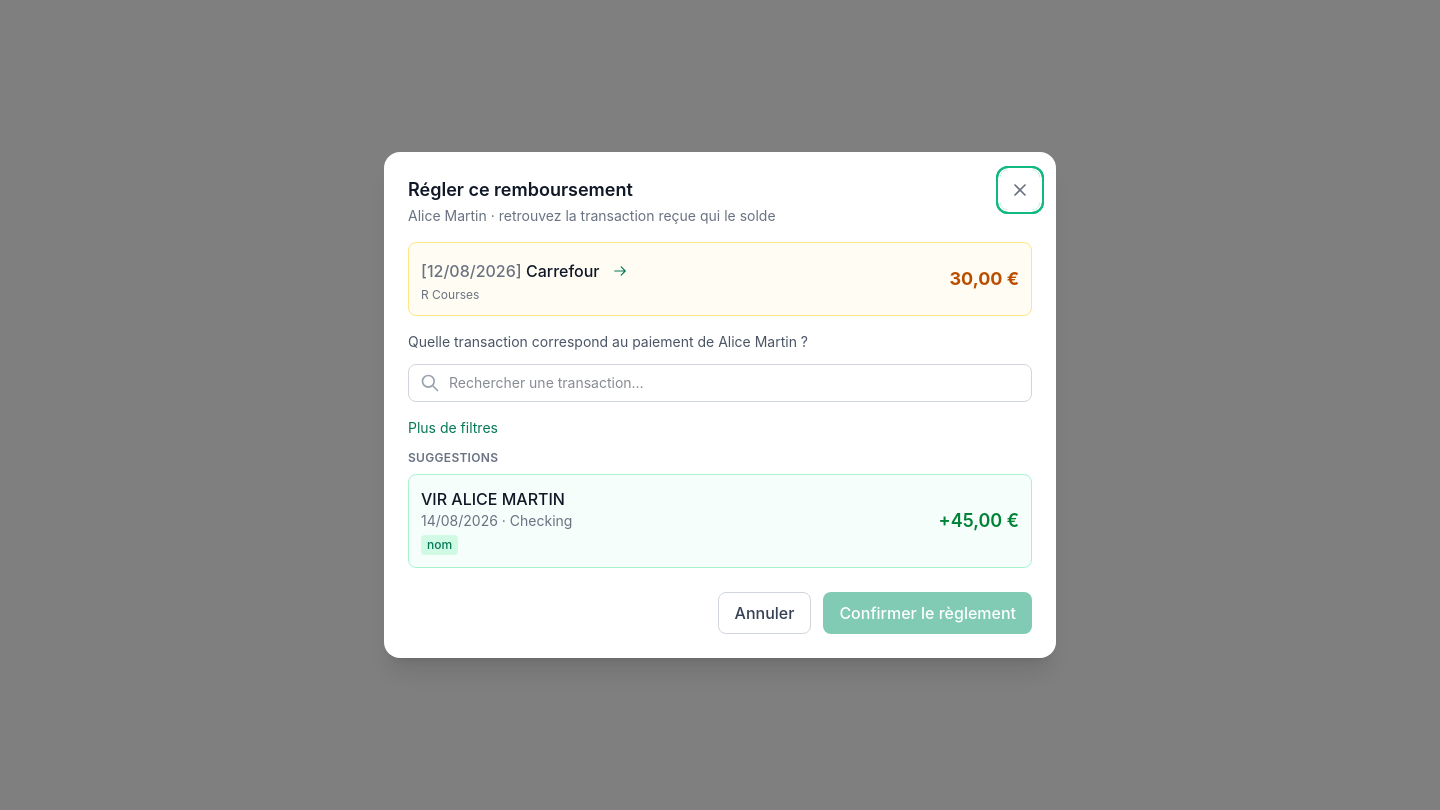
it: SingleSettlementModal › surfaces a failed settlement instead of closing on it
The image size is (1440, 810).
Click the button "VIR ALICE MARTIN 14/08/2026 · Checking nom +45,00 €": (493, 499) [408,474,1032,568]
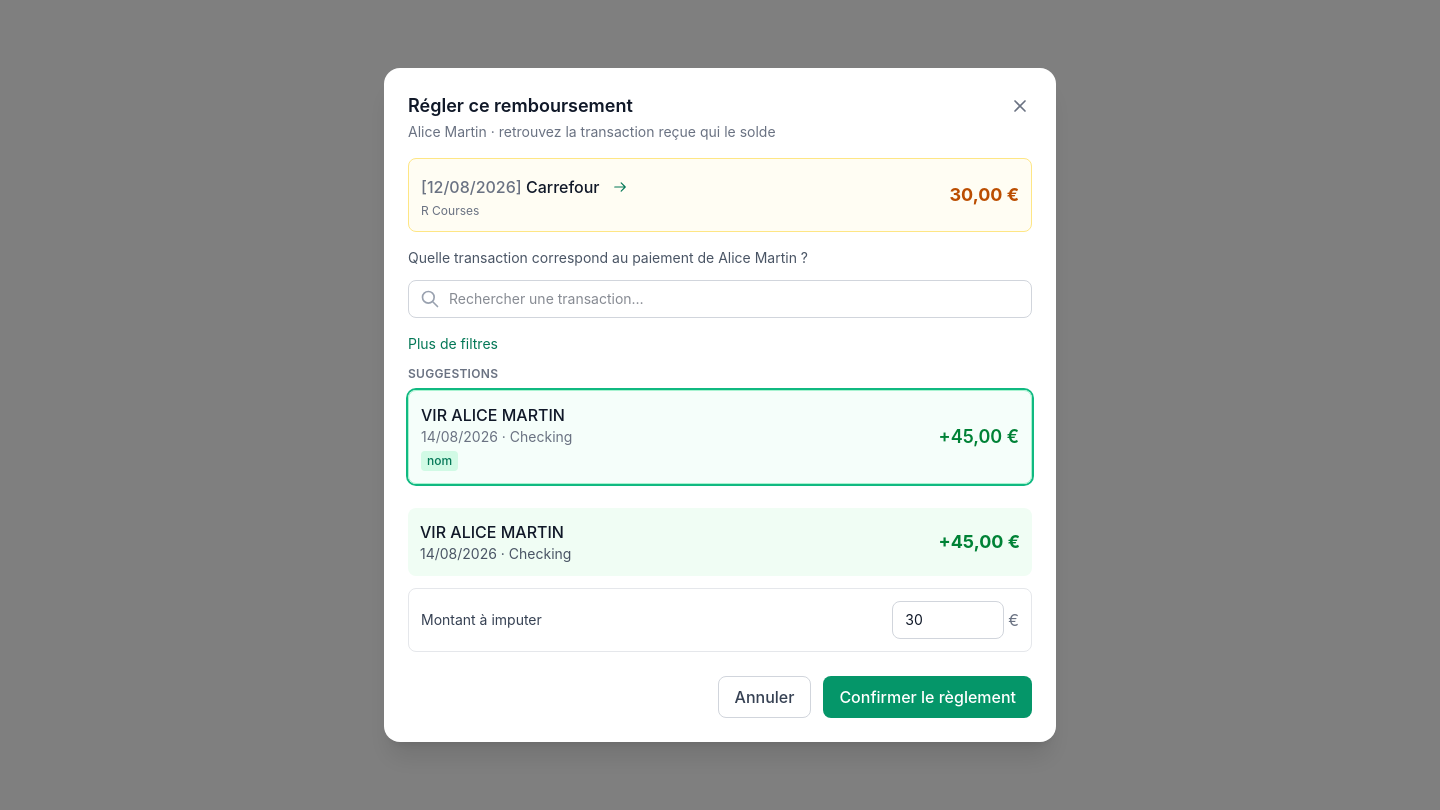
Click the button with test id "single-settlement-confirm": (928, 697) [823,676,1032,718]
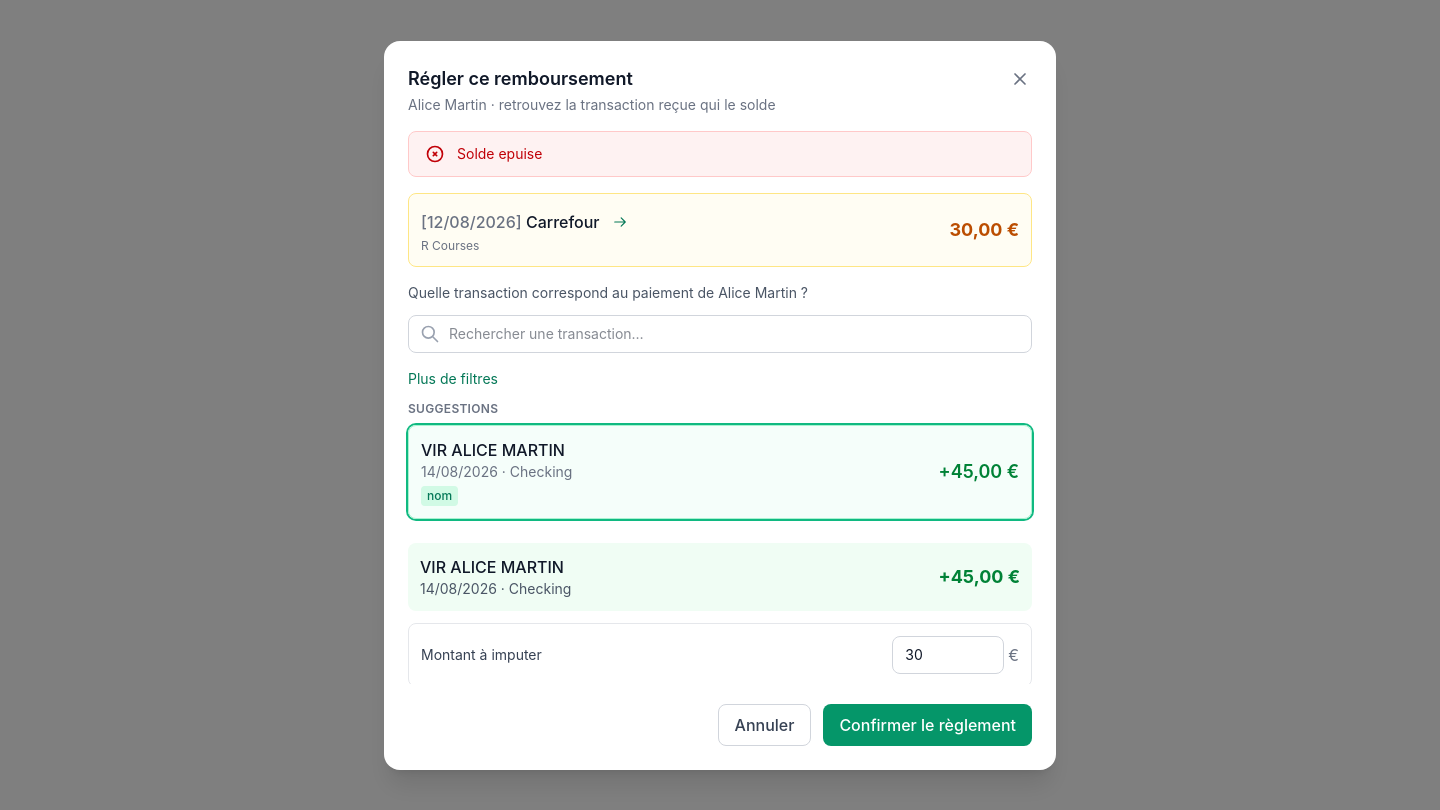
Expected: the text "Solde epuise" is shown, [457,144,542,162]
